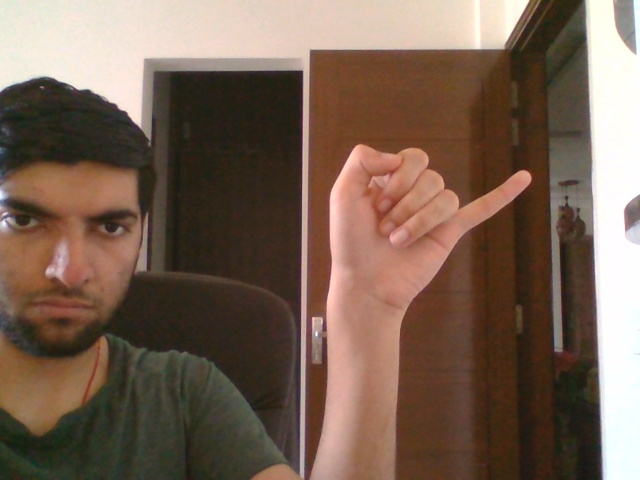LetterJ: (325, 143, 532, 310)
